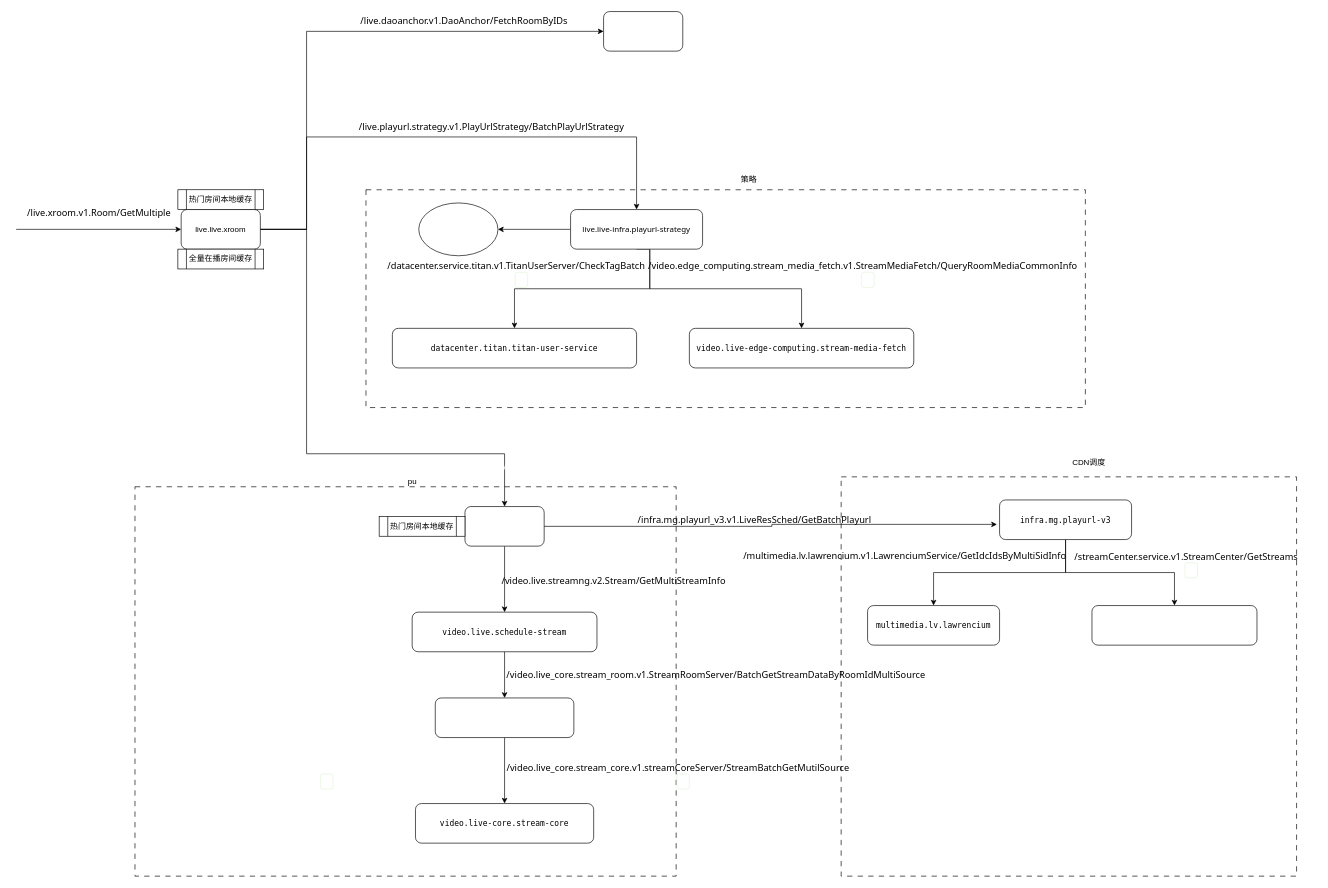
The diagram is 1328 pixels wide and 888 high, and some of its shapes have lost their labels. The centre of each missing label's shape, as x and y in pixels:
live.live.dao-anchor: (x=643, y=31)
paladin 策略规则(热更新): (x=458, y=229)
video.live-cdn.bvccdn-ban-streamcenter: (x=1174, y=625)
video.live-core.stream-room: (x=504, y=717)
video.pung.playurl: (x=504, y=526)
